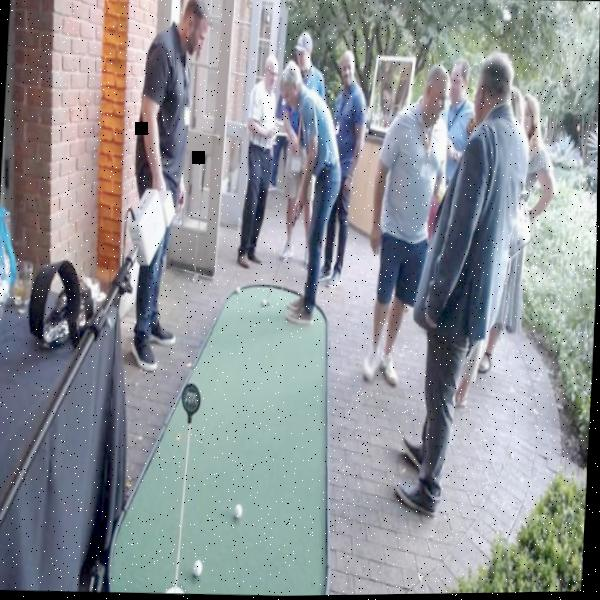GolfBall: (228, 498, 253, 528), (189, 553, 209, 581), (231, 281, 244, 301), (259, 295, 272, 311)
